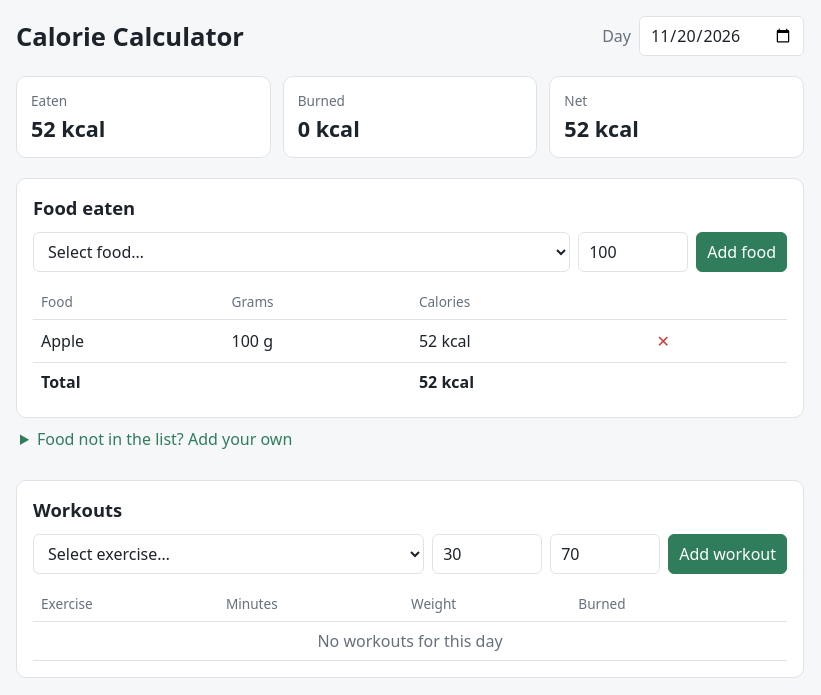
Test: App › deleting a meal removes it
The image size is (821, 695).
Step 1. Click the button named "Delete Apple" → (663, 341), box 648,328 -> 678,354
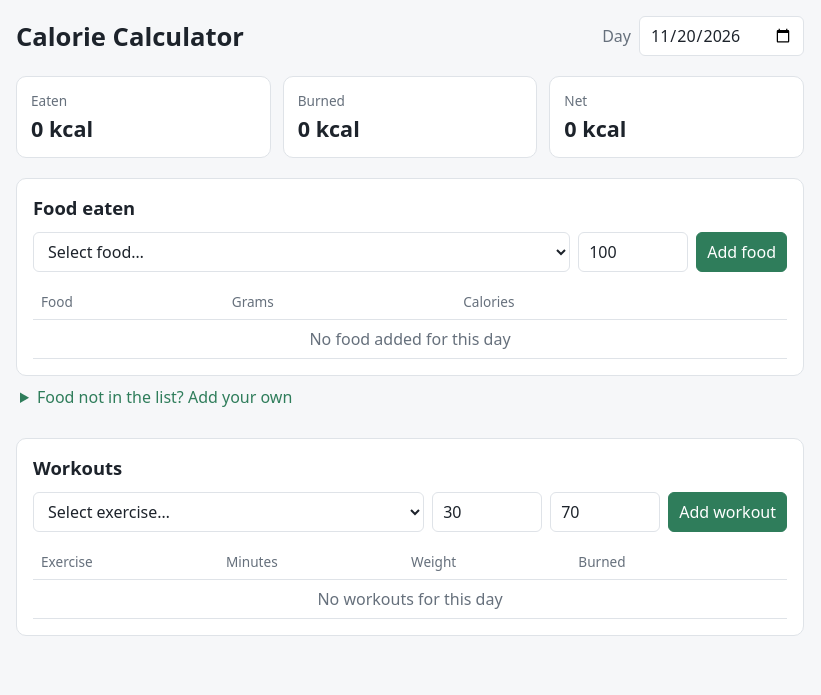
Expected: the text "No food added for this day" is shown, 33,320 -> 787,358
